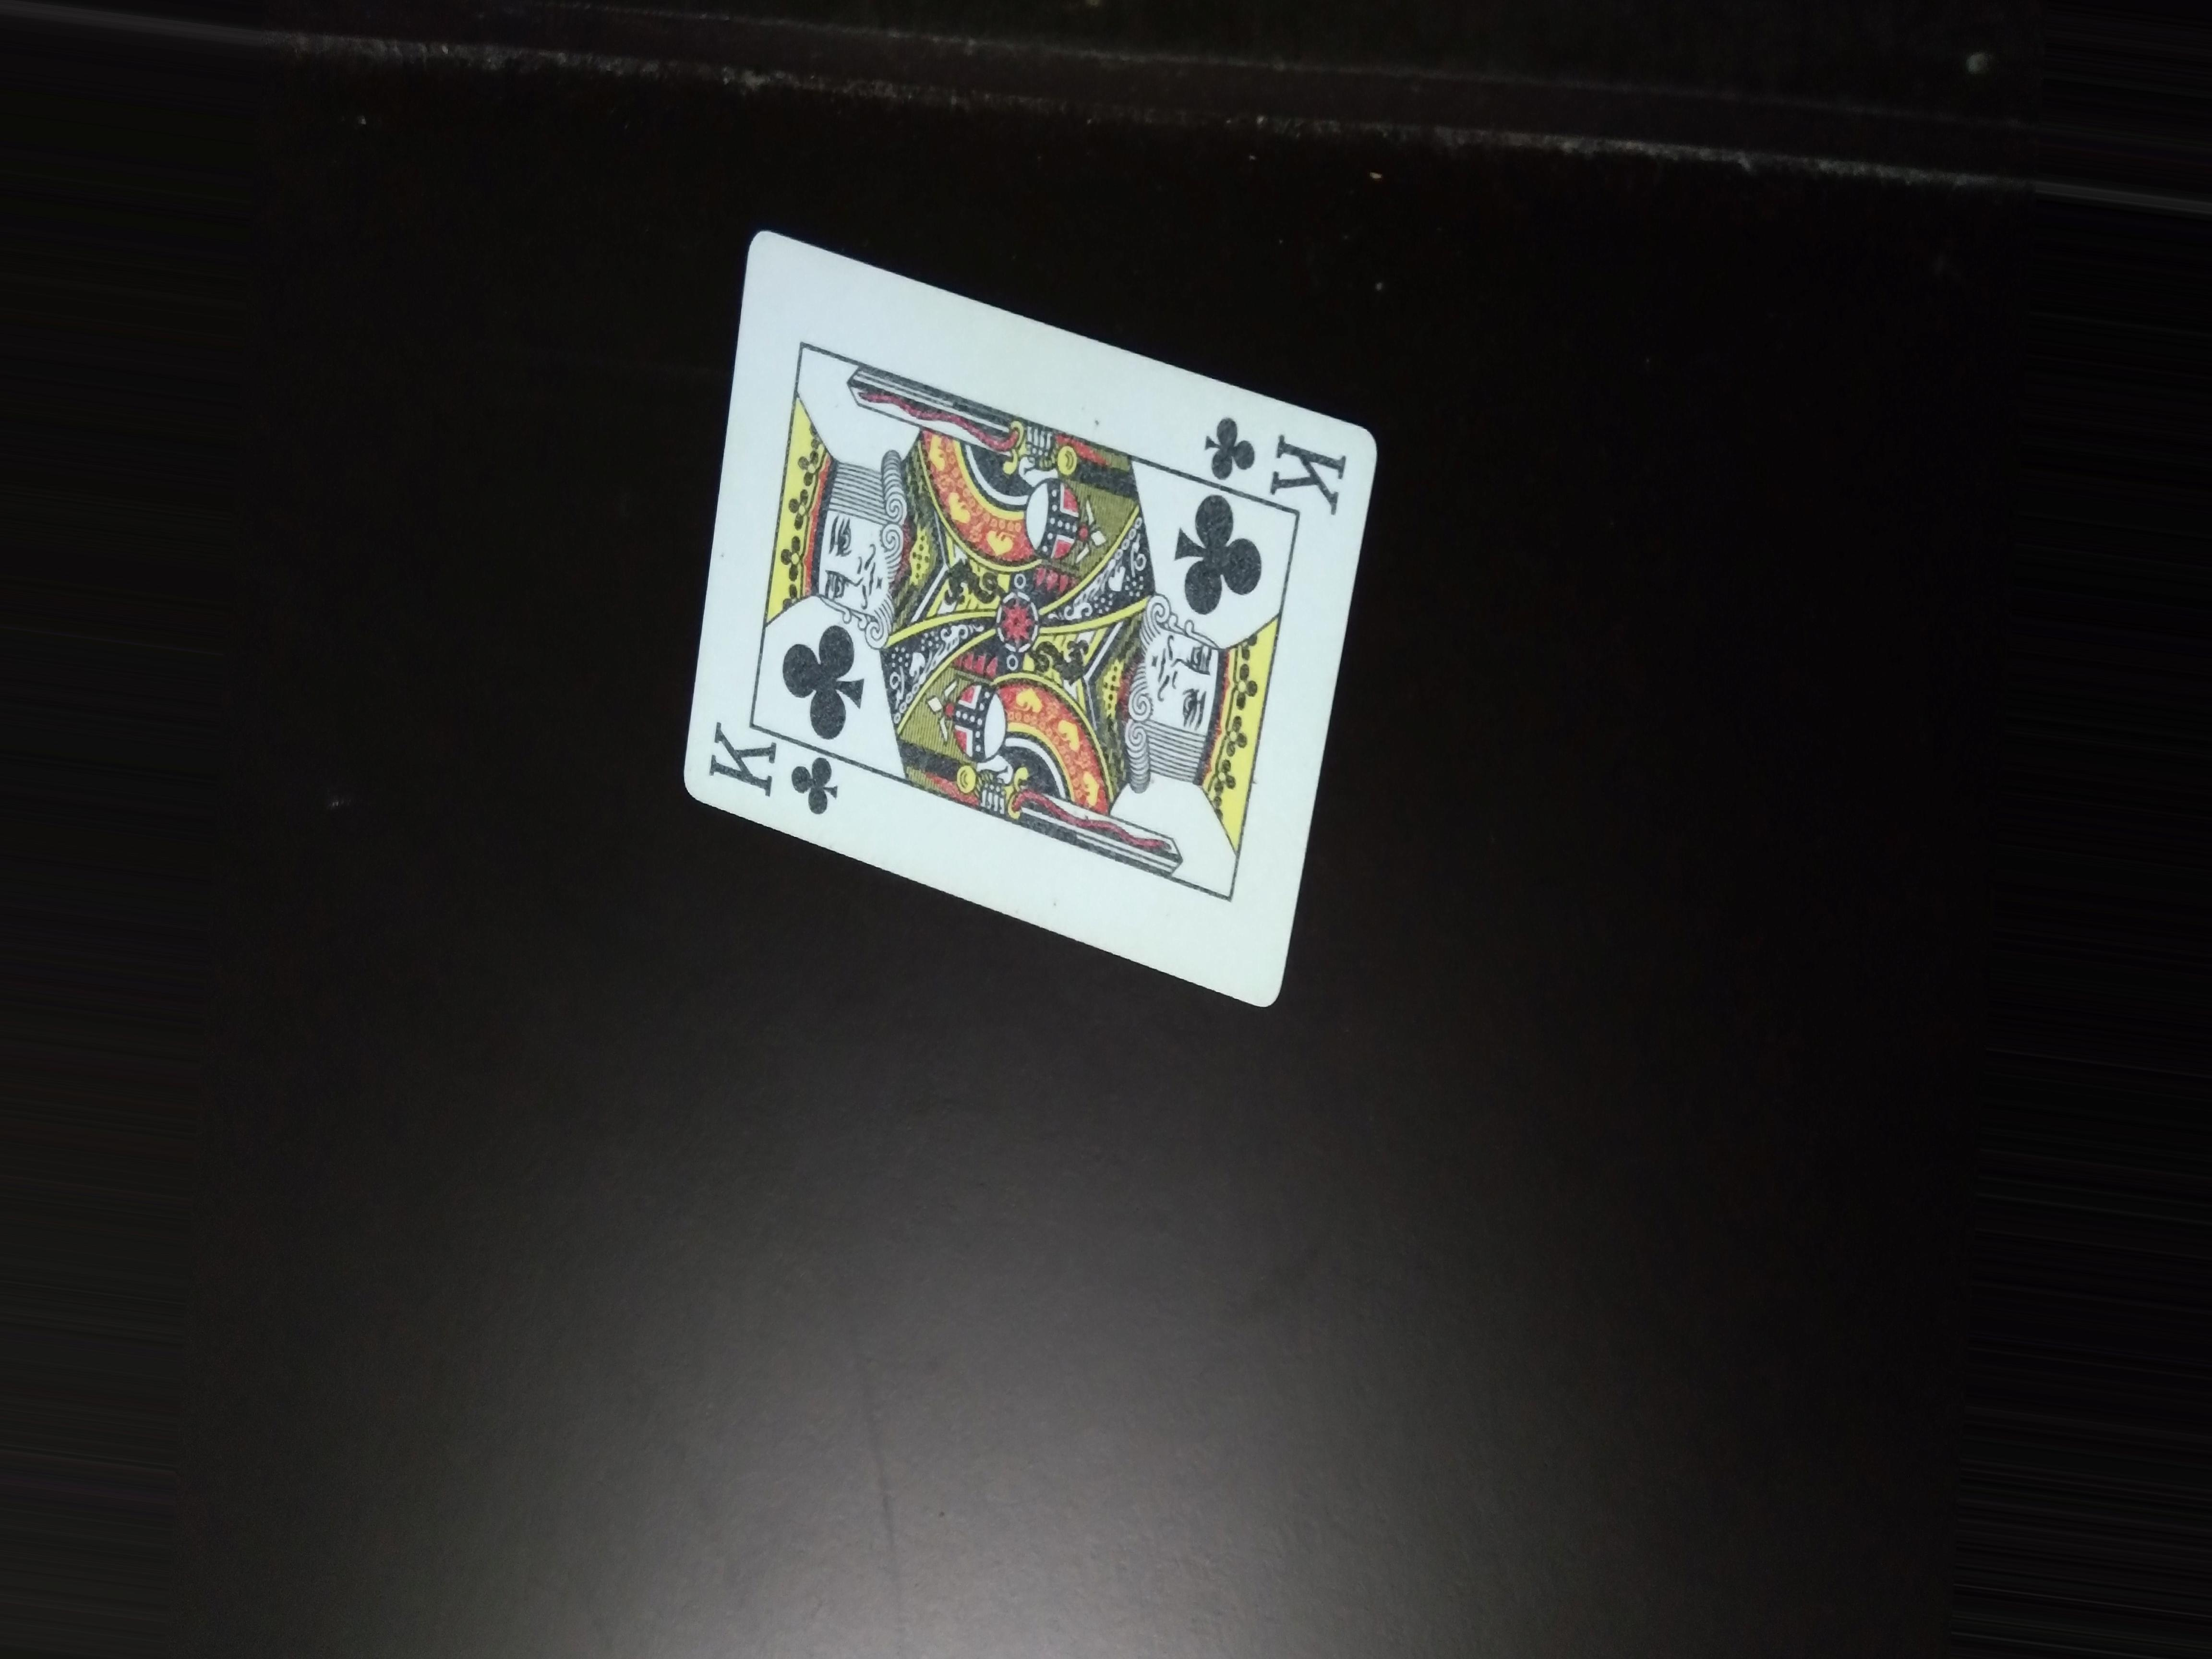KC: (1191, 403, 1357, 518)
